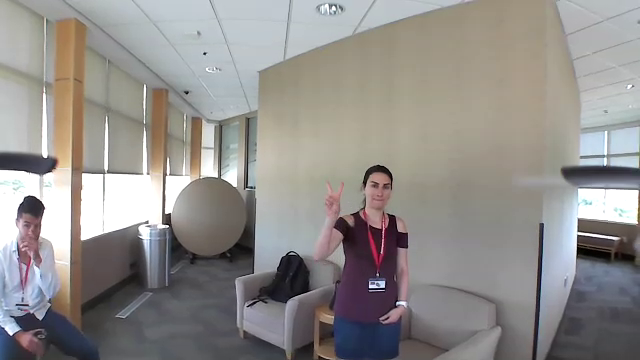peace: (318, 176, 347, 219)
